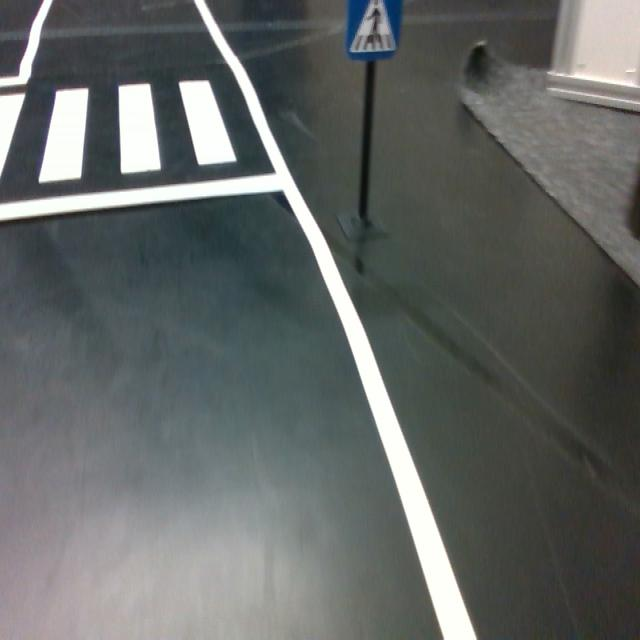crosswalk-sign: (345, 0, 402, 62)
